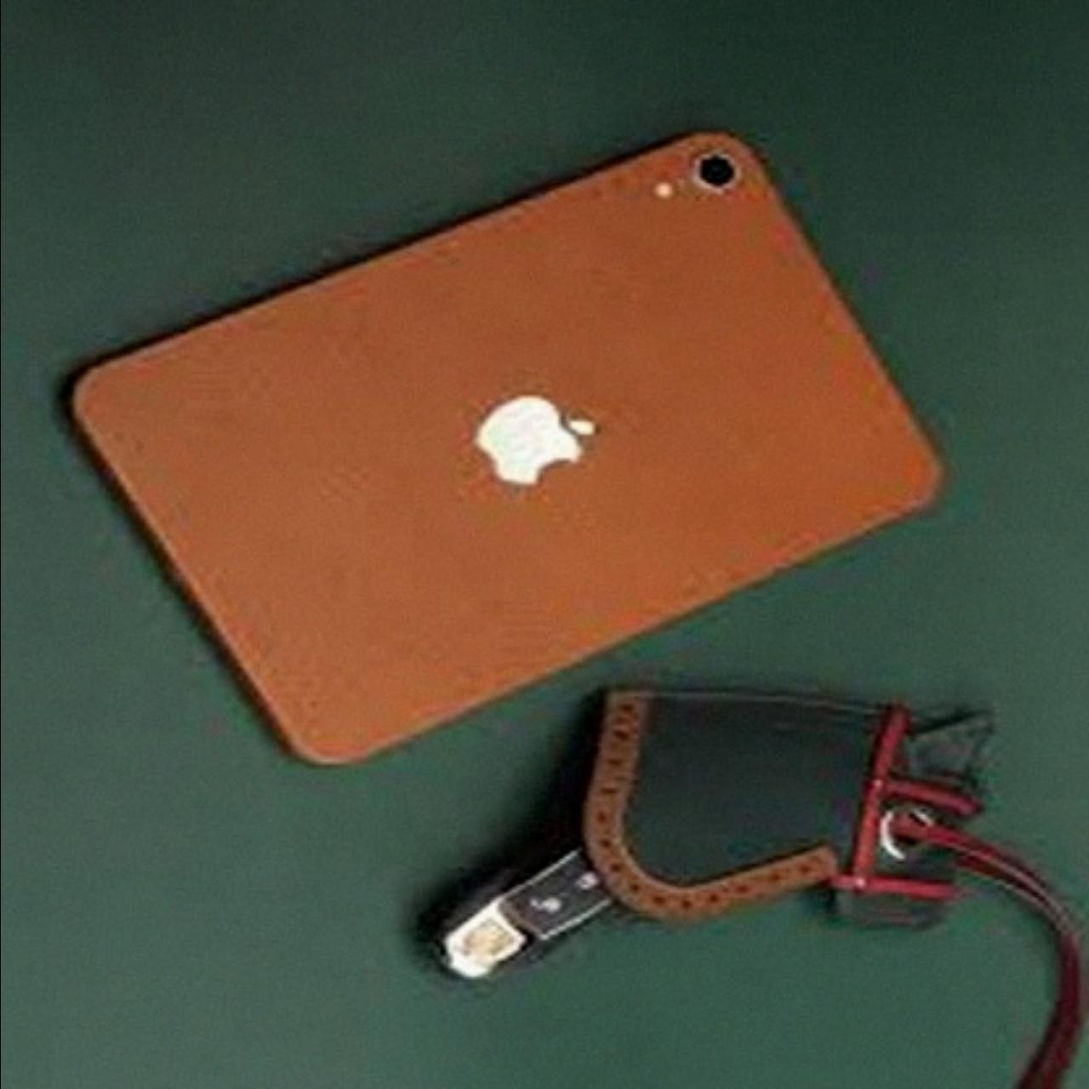Tablet_PC: (50, 113, 950, 790)
